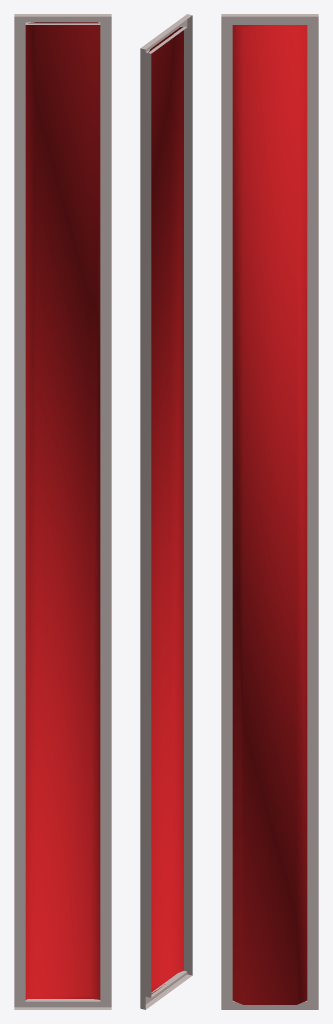
The model's file is VMP_MOD_Vending_machine_01_light_01.fbx.
The picture shows the model from 3 angles, left to right: view 1: azimuth 90°, elevation 25°; view 2: azimuth 150°, elevation 25°; view 3: azimuth 270°, elevation 25°; orthographic projection. The views are drawn at different scales.
Visible parts, largest first — view 1: VMP_MOD_Vending_machine_01_light_01; view 2: VMP_MOD_Vending_machine_01_light_01; view 3: VMP_MOD_Vending_machine_01_light_01.
Part boxes in pixels (x1,y1,x2,y2): VMP_MOD_Vending_machine_01_light_01: (14,14,111,1009); VMP_MOD_Vending_machine_01_light_01: (140,14,192,1009); VMP_MOD_Vending_machine_01_light_01: (221,14,318,1009).
Size of the model in its own units: 0.014 by 1.04 by 0.0924.
